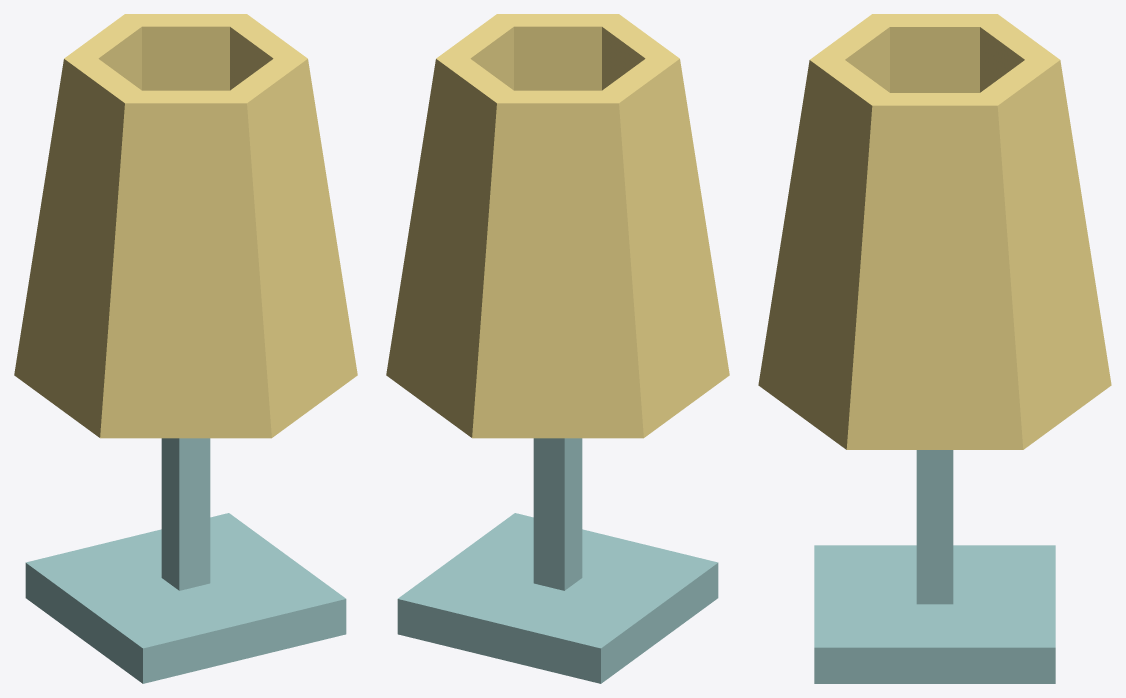
The model's file is lampRoundTable.glb.
The picture shows the model from 3 angles, left to right: view 1: azimuth 30°, elevation 25°; view 2: azimuth 150°, elevation 25°; view 3: azimuth 270°, elevation 25°; orthographic projection. The views are drawn at different scales.
Size of the model in its own units: 1.52 by 3.14 by 1.76.
